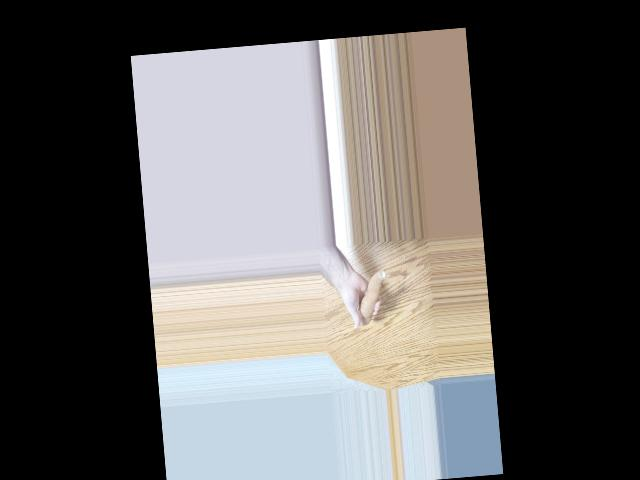sweet_potato: (355, 267, 389, 323)
